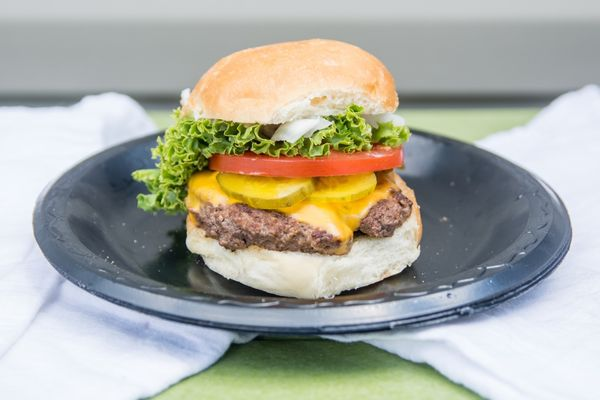soup: (138, 37, 423, 301)
